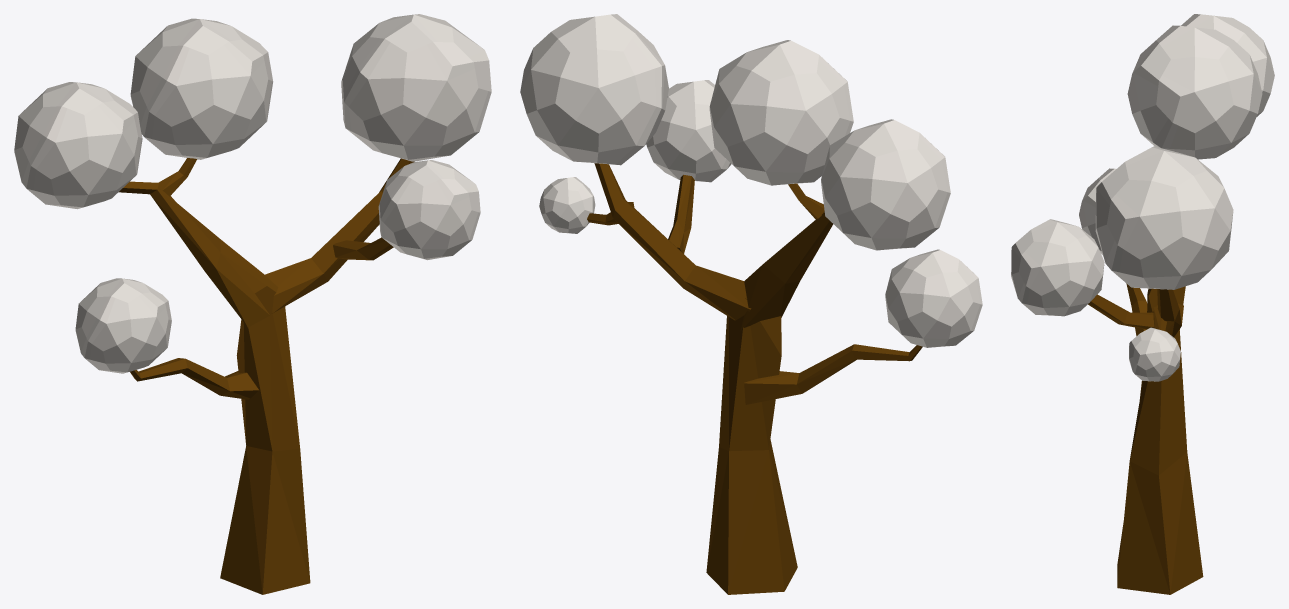
Rendered from tree_snow_bubbles.fbx.
3 views of the same model, side by side, from view 1: azimuth 30°, elevation 25°; view 2: azimuth 150°, elevation 25°; view 3: azimuth 270°, elevation 25° (orthographic). The views are drawn at different scales.
Visible parts, largest first — view 1: Cylinder.012, Cylinder.001, Cylinder.003, Cylinder.010, Cylinder.013, Cylinder.011, Cylinder.005, Cylinder.006, Cylinder.004, Cylinder.009; view 2: Cylinder.012, Cylinder.001, Cylinder.003, Cylinder.010, Cylinder.011, Cylinder.013, Cylinder.006, Cylinder.005, Cylinder.004, Cylinder.014, Cylinder.009; view 3: Cylinder.012, Cylinder.003, Cylinder.001, Cylinder.013, Cylinder.010, Cylinder.014, Cylinder.009, Cylinder.011, Cylinder.006, Cylinder.004, Cylinder.005.
Boxes of the visible parts, left/top/right/bottom form: Cylinder.012: left=341, top=14, right=491, bottom=161; Cylinder.001: left=220, top=306, right=310, bottom=594; Cylinder.003: left=130, top=18, right=273, bottom=159; Cylinder.010: left=14, top=82, right=142, bottom=209; Cylinder.013: left=378, top=160, right=480, bottom=260; Cylinder.011: left=75, top=278, right=171, bottom=373; Cylinder.005: left=119, top=181, right=278, bottom=327; Cylinder.006: left=265, top=158, right=414, bottom=313; Cylinder.004: left=130, top=358, right=258, bottom=399; Cylinder.009: left=333, top=237, right=393, bottom=260; Cylinder.012: left=520, top=14, right=668, bottom=165; Cylinder.001: left=706, top=298, right=797, bottom=594; Cylinder.003: left=709, top=40, right=853, bottom=185; Cylinder.010: left=821, top=119, right=950, bottom=250; Cylinder.011: left=885, top=249, right=982, bottom=347; Cylinder.013: left=646, top=80, right=731, bottom=182; Cylinder.006: left=594, top=163, right=751, bottom=320; Cylinder.005: left=740, top=211, right=833, bottom=330; Cylinder.004: left=744, top=344, right=922, bottom=404; Cylinder.014: left=539, top=177, right=595, bottom=233; Cylinder.009: left=668, top=174, right=694, bottom=253; Cylinder.012: left=1095, top=146, right=1233, bottom=289; Cylinder.003: left=1127, top=25, right=1262, bottom=159; Cylinder.001: left=1117, top=302, right=1203, bottom=594; Cylinder.013: left=1011, top=219, right=1104, bottom=316; Cylinder.010: left=1181, top=14, right=1274, bottom=116; Cylinder.014: left=1129, top=327, right=1180, bottom=381; Cylinder.009: left=1088, top=294, right=1154, bottom=329; Cylinder.011: left=1079, top=168, right=1115, bottom=254; Cylinder.006: left=1151, top=289, right=1183, bottom=337; Cylinder.004: left=1126, top=283, right=1147, bottom=335; Cylinder.005: left=1147, top=286, right=1185, bottom=336.
Size of the model in its own units: 776 by 948 by 430.
